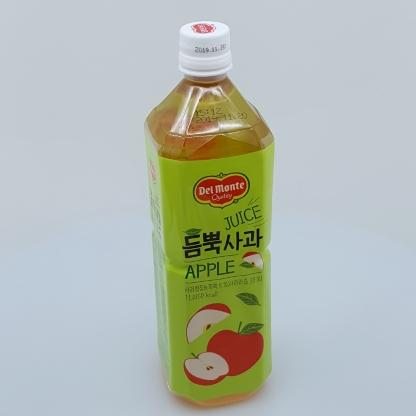----------1L: (143, 21, 275, 407)
